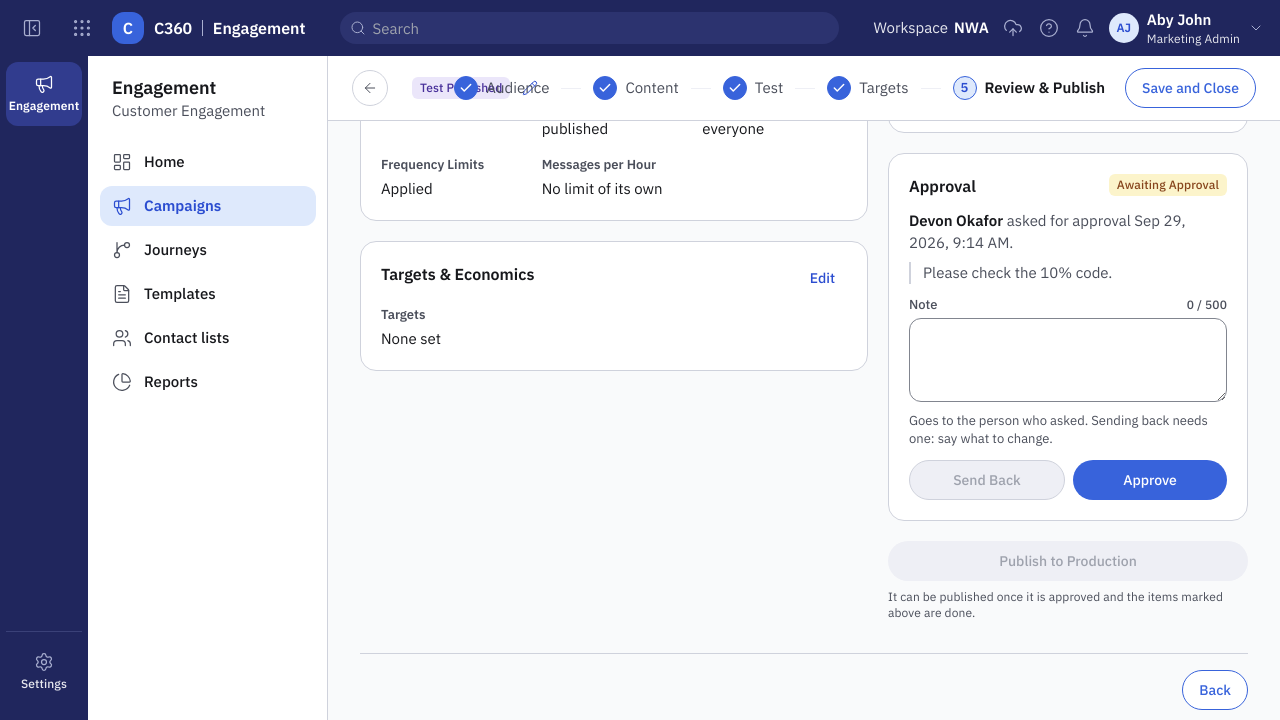
Test case: an approver sends it back with a note, and the author can ask again
(page scrolled)
Type "Use the 15% code." into the text box labelled "Note" at x=1068, y=360, box x1=909 y1=318 x2=1227 y2=402
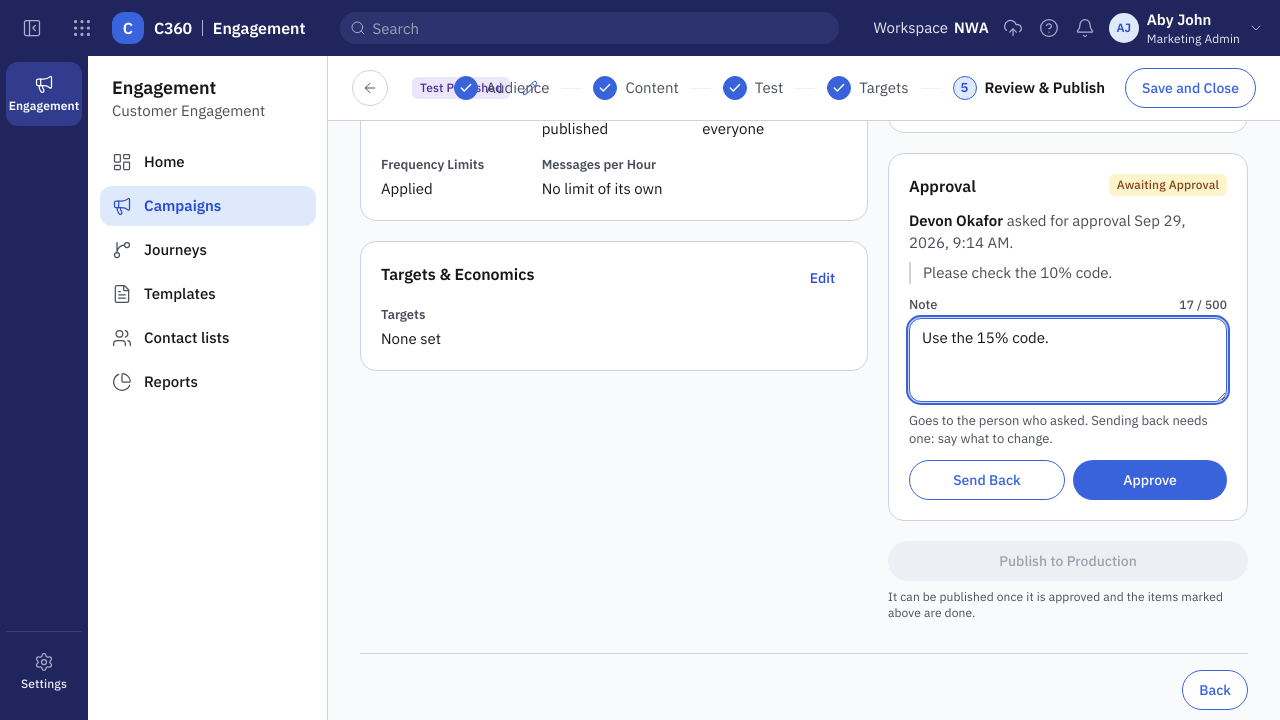
Click the button "Send Back" at x=987, y=480, box x1=909 y1=460 x2=1065 y2=500
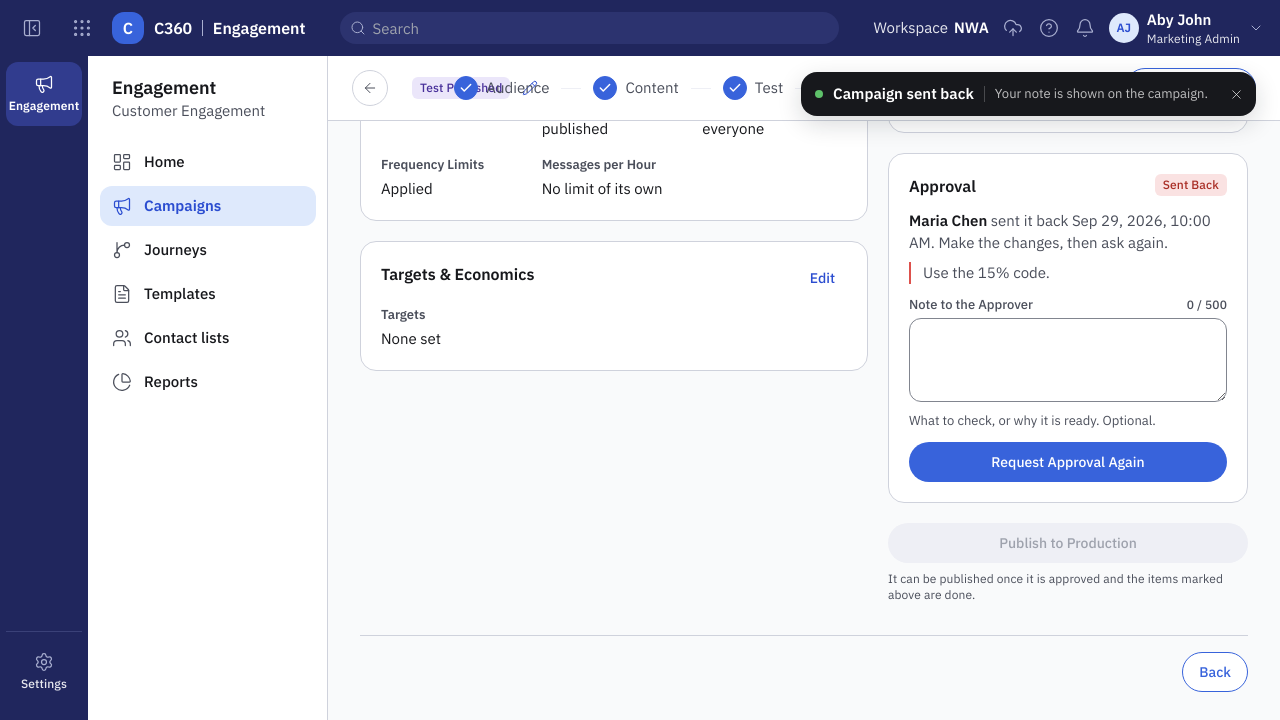
Result: the text "Sent Back" is shown at x1=1155 y1=174 x2=1227 y2=196
Result: the text "Use the 15% code." is shown at x1=909 y1=262 x2=1227 y2=284
Result: the button "Request Approval Again" is shown at x1=909 y1=442 x2=1227 y2=482
